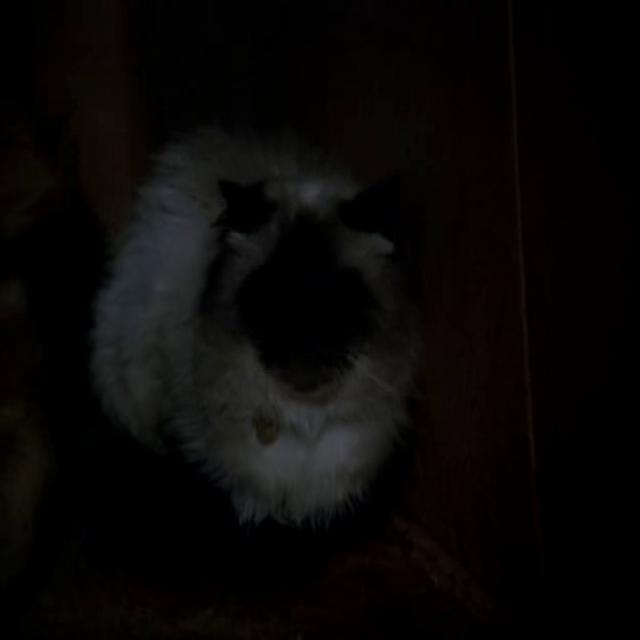Cat: (72, 110, 429, 525)
